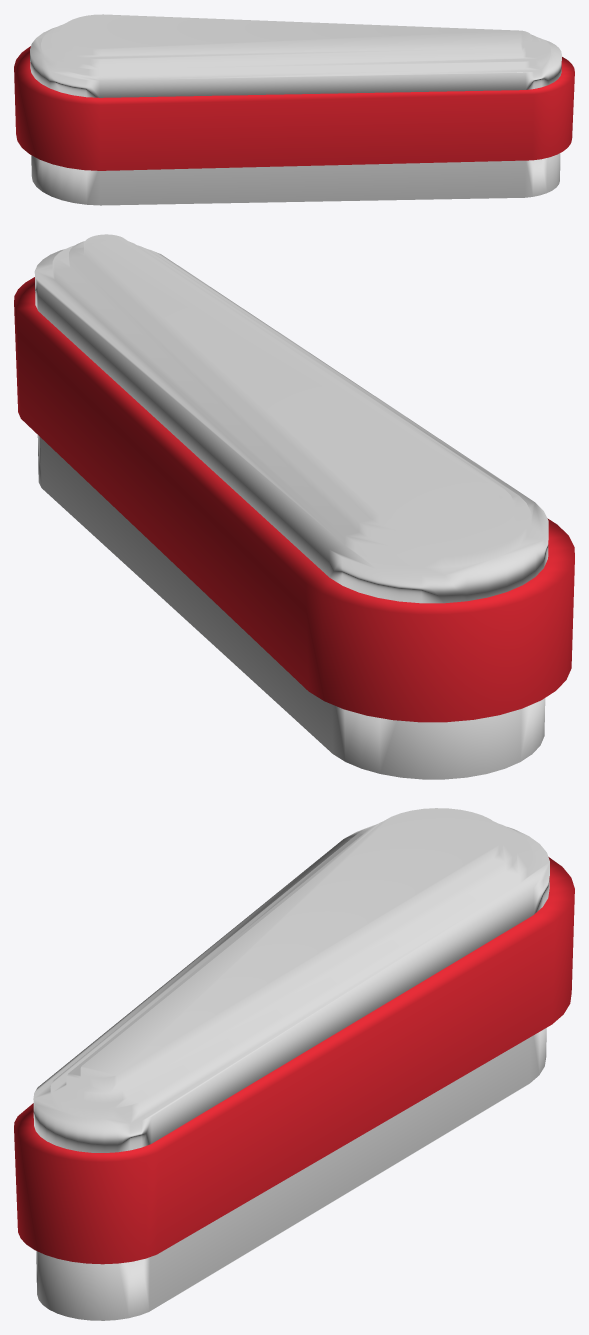
The model's file is Paddle_002.fbx.
The picture shows the model from 3 angles, top to bottom: view 1: azimuth 30°, elevation 25°; view 2: azimuth 150°, elevation 25°; view 3: azimuth 270°, elevation 25°; orthographic projection. The views are drawn at different scales.
Visible parts, largest first — view 1: Flipper Gottlieb 3" v2.001; view 2: Flipper Gottlieb 3" v2.001; view 3: Flipper Gottlieb 3" v2.001.
Boxes of the visible parts, x1,y1,x2,y2 form: Flipper Gottlieb 3" v2.001: (14,14,574,205); Flipper Gottlieb 3" v2.001: (14,234,574,779); Flipper Gottlieb 3" v2.001: (14,808,574,1320).
Bounding box in the file's own units: 2283 × 3168 × 1008.
